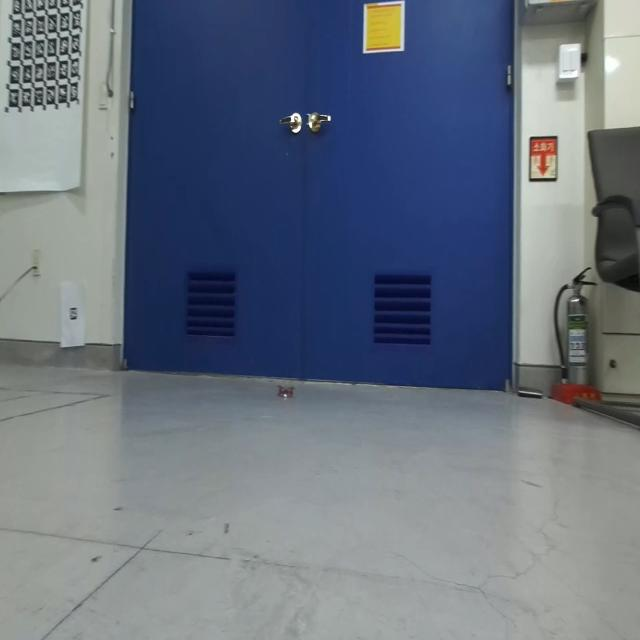crazyflie: (275, 381, 297, 402)
